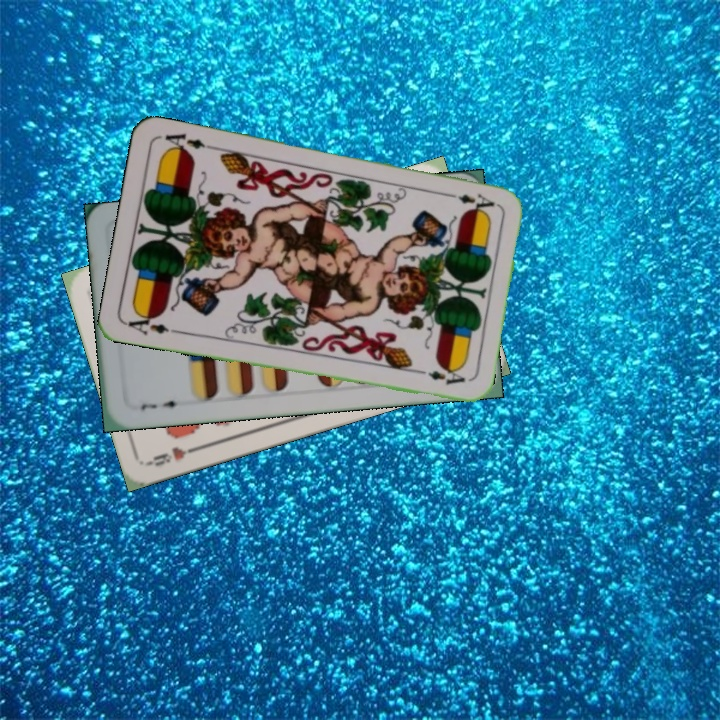E7: (137, 396, 186, 413)
EA: (123, 309, 182, 338), (441, 188, 498, 210)
H9: (145, 441, 203, 469)
